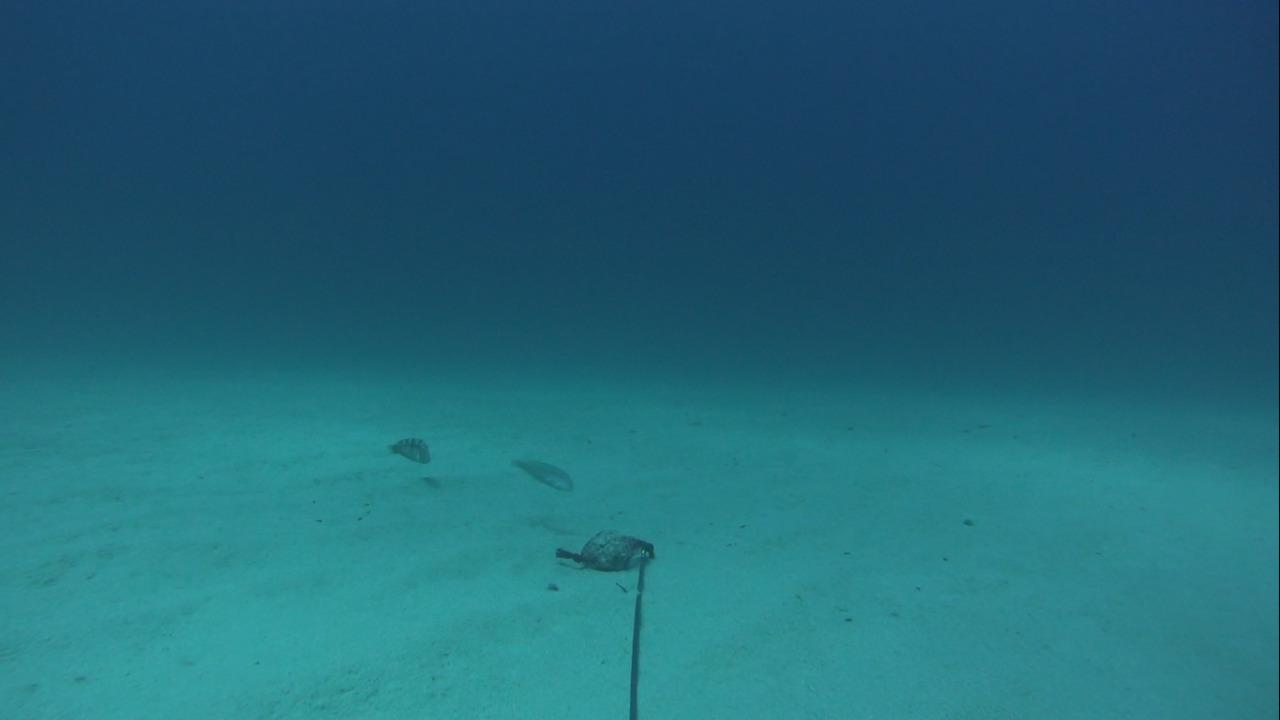raor: (500, 451, 578, 493), (381, 429, 438, 468)
